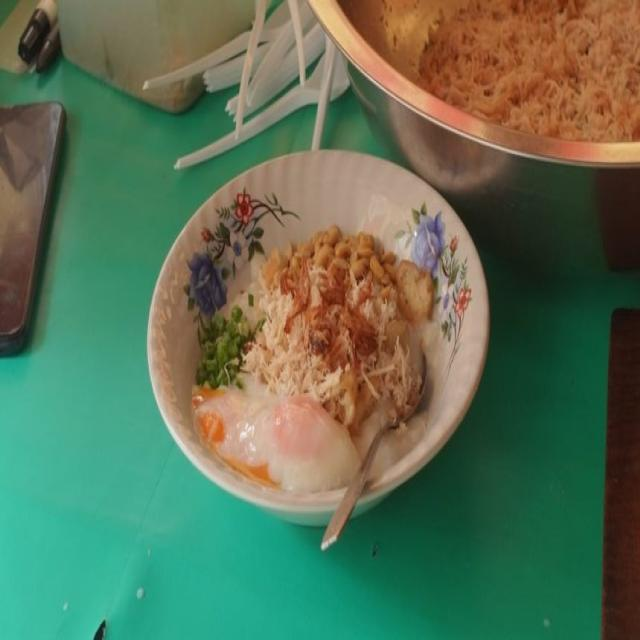bubur ayam: (192, 227, 442, 498)
mangkuk: (146, 145, 492, 530), (306, 0, 640, 278)
